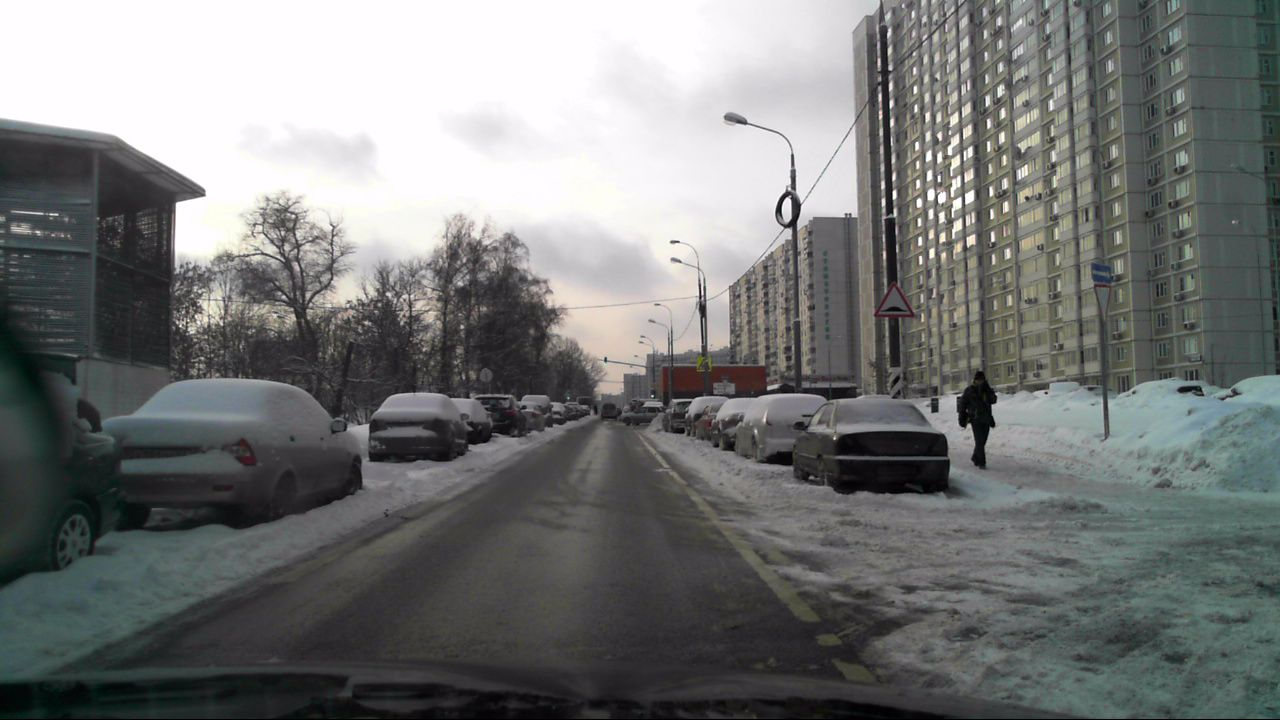One-Way Traffic: (1091, 262, 1112, 283)
